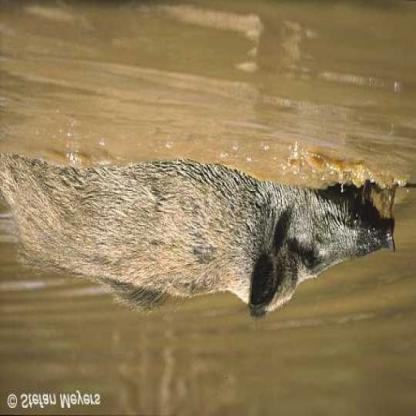boar: (4, 102, 404, 337)
